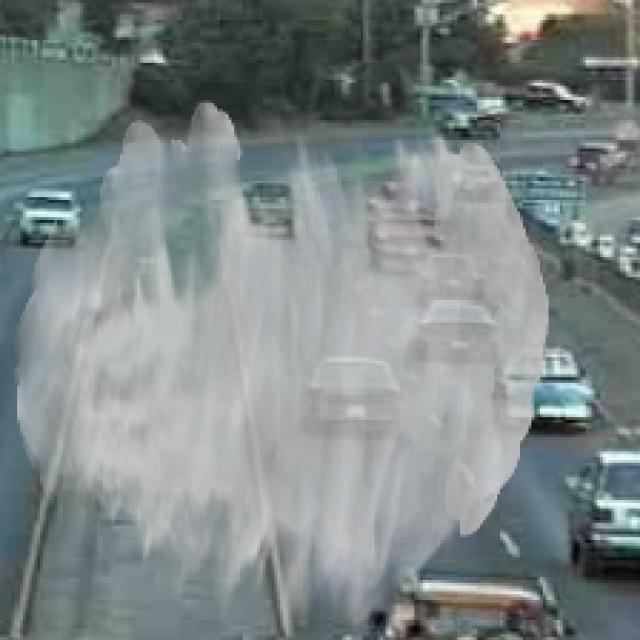smoke: (14, 100, 549, 634)
